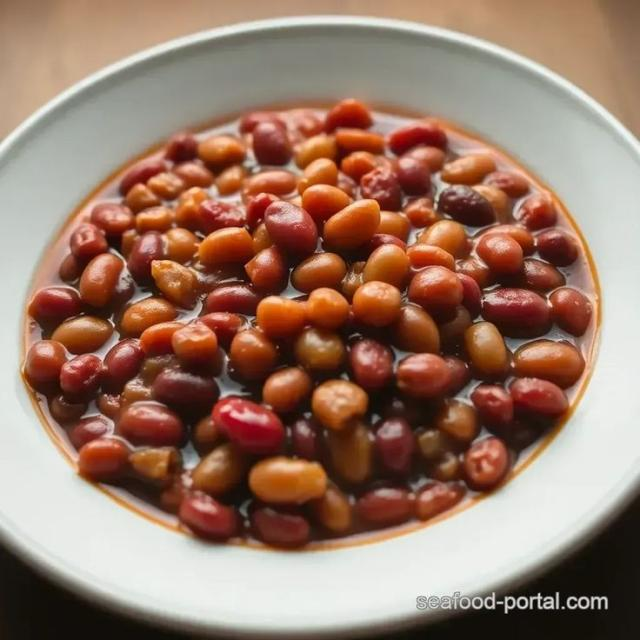beans: (213, 398, 285, 454), (249, 457, 326, 504), (482, 288, 551, 337), (514, 340, 585, 387), (119, 402, 184, 446), (312, 380, 368, 431), (265, 201, 317, 255), (323, 200, 380, 249), (179, 493, 239, 539), (153, 367, 219, 408), (193, 443, 246, 494), (328, 423, 373, 482), (408, 266, 462, 312), (464, 322, 509, 377), (229, 329, 278, 379), (463, 437, 509, 490), (251, 507, 310, 547), (438, 185, 495, 226), (397, 354, 450, 398), (294, 327, 346, 371), (374, 418, 414, 475), (510, 378, 568, 417), (52, 316, 113, 353), (263, 367, 312, 413), (80, 254, 123, 306), (356, 487, 413, 526), (152, 260, 198, 308), (394, 304, 439, 353), (349, 339, 393, 389), (120, 297, 177, 335), (292, 253, 346, 293), (353, 281, 401, 326), (78, 438, 129, 480), (198, 228, 254, 266), (256, 296, 305, 339), (550, 287, 592, 336), (310, 484, 352, 533), (104, 339, 144, 390), (172, 322, 218, 366), (389, 120, 446, 155), (363, 245, 409, 288), (28, 287, 81, 324), (129, 447, 180, 485), (434, 400, 479, 443), (302, 185, 350, 225), (127, 232, 165, 282), (245, 247, 287, 292), (25, 340, 66, 385), (477, 234, 523, 274), (306, 287, 349, 329), (416, 482, 464, 519), (60, 354, 102, 396), (360, 167, 401, 210), (253, 121, 293, 165), (420, 220, 467, 257), (119, 159, 166, 196), (198, 312, 246, 348), (471, 385, 513, 426), (204, 284, 261, 314), (441, 154, 495, 185), (325, 100, 373, 133), (536, 229, 578, 266), (198, 200, 245, 233), (518, 259, 565, 292), (483, 225, 534, 255), (515, 193, 556, 230), (175, 187, 210, 230), (69, 416, 113, 450), (140, 322, 184, 356), (197, 135, 245, 166), (394, 156, 431, 195), (295, 134, 337, 168), (91, 203, 134, 236), (298, 159, 338, 194), (245, 170, 296, 196), (160, 472, 191, 514), (70, 224, 107, 259), (381, 396, 425, 425), (291, 419, 322, 460), (407, 244, 454, 271), (192, 414, 222, 456), (335, 128, 385, 153), (439, 306, 471, 345), (165, 228, 199, 264), (474, 185, 510, 219), (246, 193, 279, 229), (140, 354, 178, 384), (49, 394, 87, 424), (457, 257, 494, 287), (485, 172, 529, 197), (417, 429, 452, 460), (457, 274, 481, 319), (341, 152, 377, 182), (404, 146, 445, 172), (172, 162, 213, 188), (403, 198, 439, 227), (120, 378, 152, 410), (377, 211, 410, 242), (125, 184, 160, 213), (287, 109, 323, 137), (165, 132, 197, 163), (240, 111, 285, 133), (444, 356, 470, 394), (136, 207, 173, 233), (429, 451, 461, 481), (361, 234, 406, 255), (342, 261, 365, 299), (216, 166, 246, 195), (59, 254, 84, 282), (252, 223, 273, 255), (120, 229, 139, 259), (337, 172, 358, 198)
